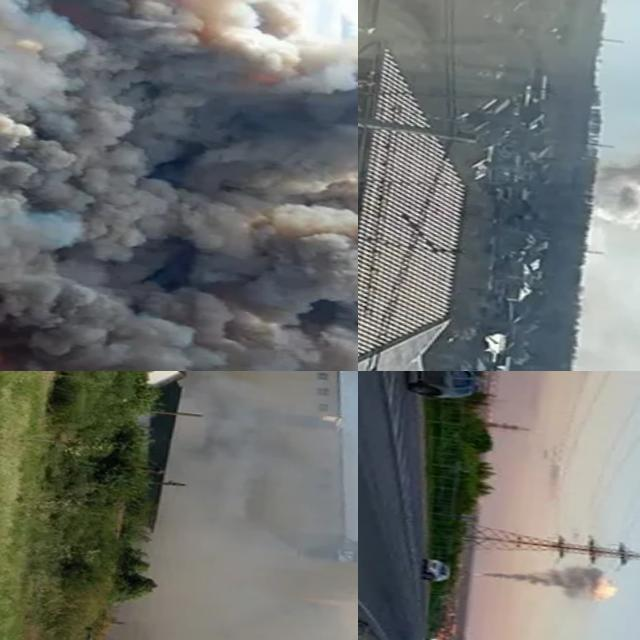smoke: (0, 0, 358, 371), (117, 371, 358, 640), (478, 554, 619, 606)
